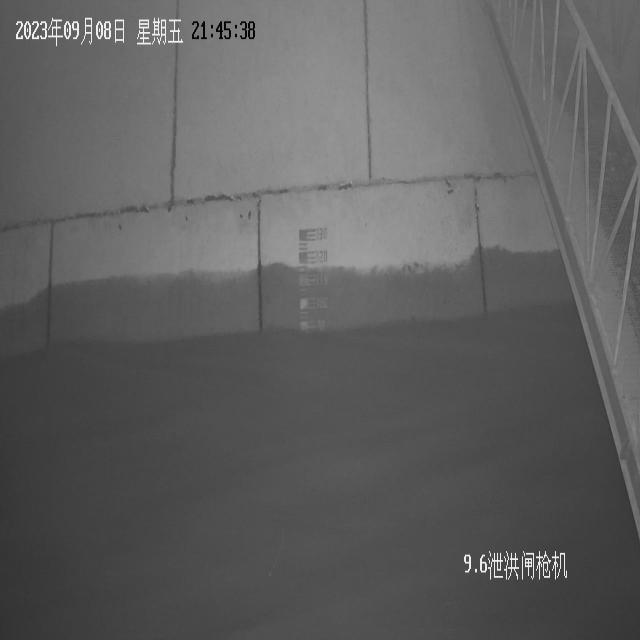ruler: (296, 222, 330, 334)
value: (316, 248, 329, 265), (316, 226, 328, 244), (316, 271, 328, 287), (316, 296, 328, 310)
